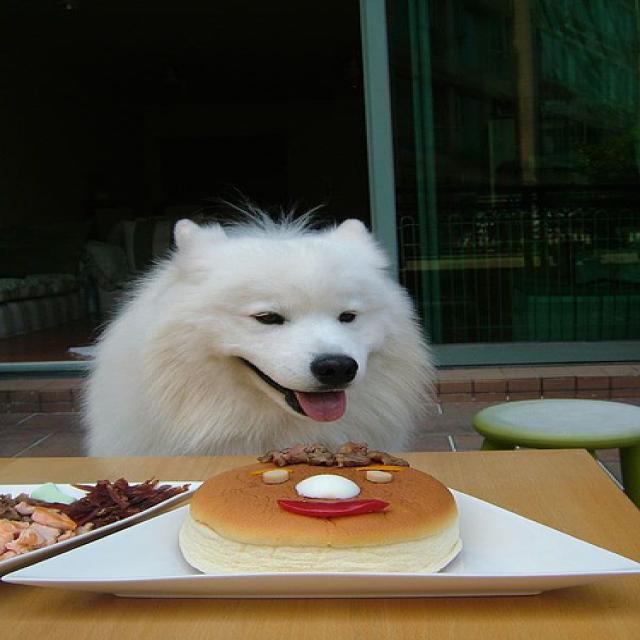dog-samoyed: (84, 211, 449, 461)
